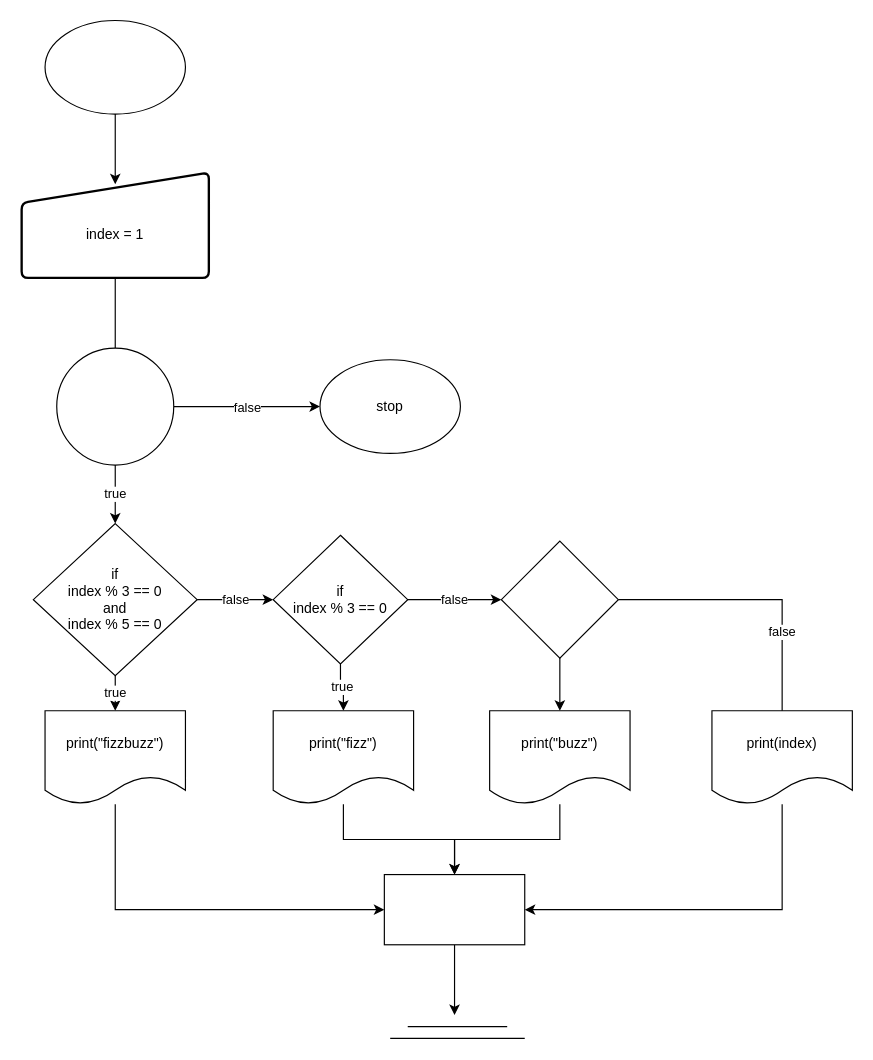
Some shapes in this 873 by 1060 pixel diagram are drawn without their labels. Each missing label, with the centre of its shape:
"if index % 5 == 0" belongs at (559,599).
"index += 1" belongs at (454,909).
"start" belongs at (114,66).
"while index <= 100" belongs at (115,406).
